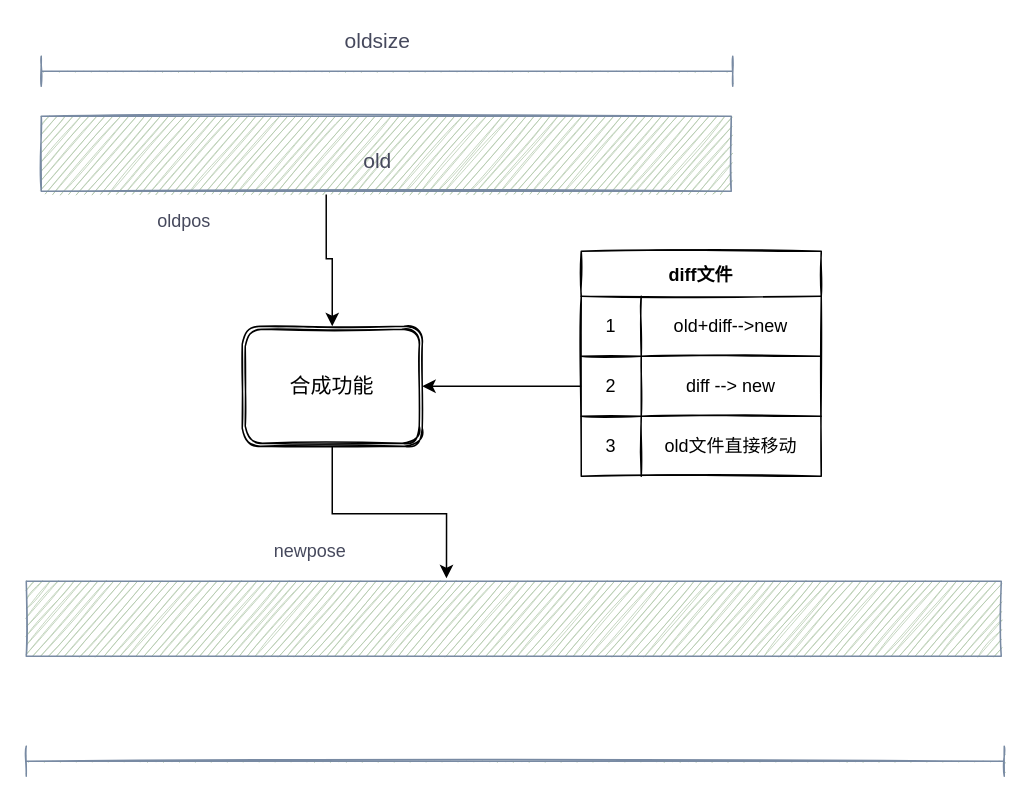
Some shapes in this 1031 by 803 pixel diagram are drawn without their labels. Here are the shapes that lost their labels. From the top down, the centre of each, then its label:
the point at 513,618: new
the point at 514,760: newsize
